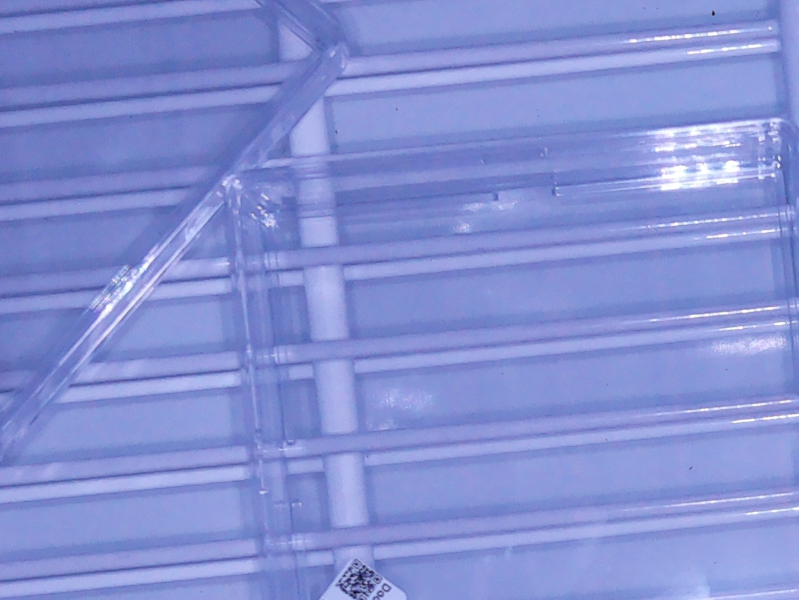plate: (223, 119, 799, 600), (1, 1, 353, 460)
